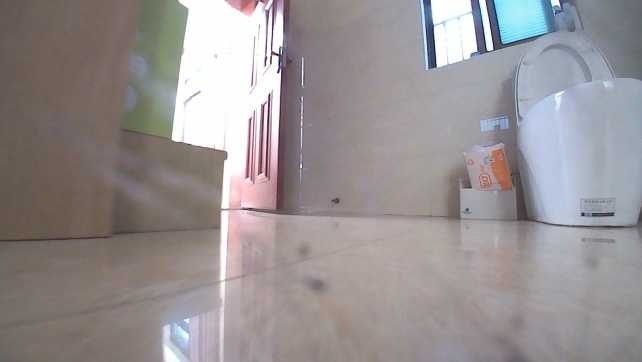toilet: (503, 25, 641, 230)
